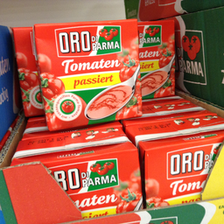tomato_sauce: (34, 18, 144, 131), (10, 128, 146, 214), (124, 111, 224, 208)
